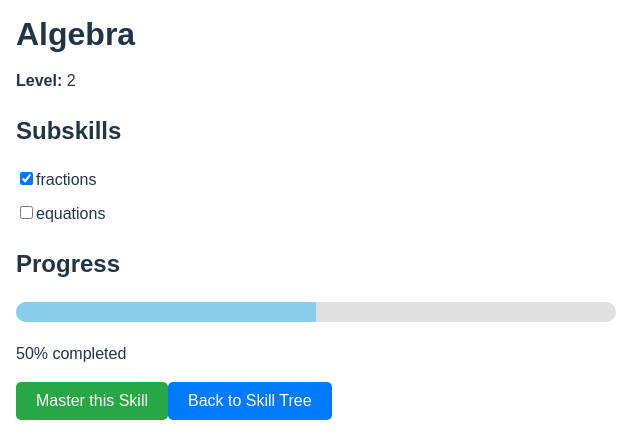
Test: NodePage integration › renders node, toggles subskill, and updates progress UI
The width and height of the screenshot is (633, 437).
Expected: the heading "Algebra" is shown, [16,16,135,52]
What coordinates should you click on to do the following:
click the checkbox labelled "fractions"
I would click on:
 (26, 179)
Its box is [20,172,33,185].
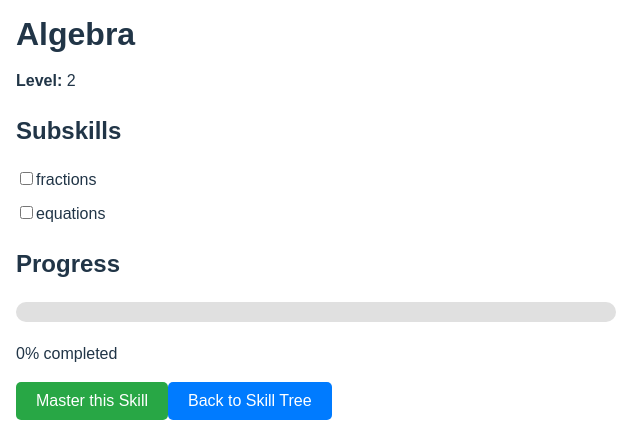
Result: the checkbox labelled "fractions" is not checked at [20,172,33,185]
Result: the text "0% completed" is shown at [16,345,117,362]
